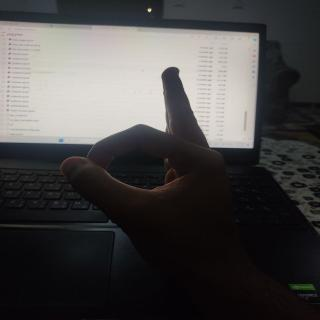Space: (42, 51, 260, 276)
